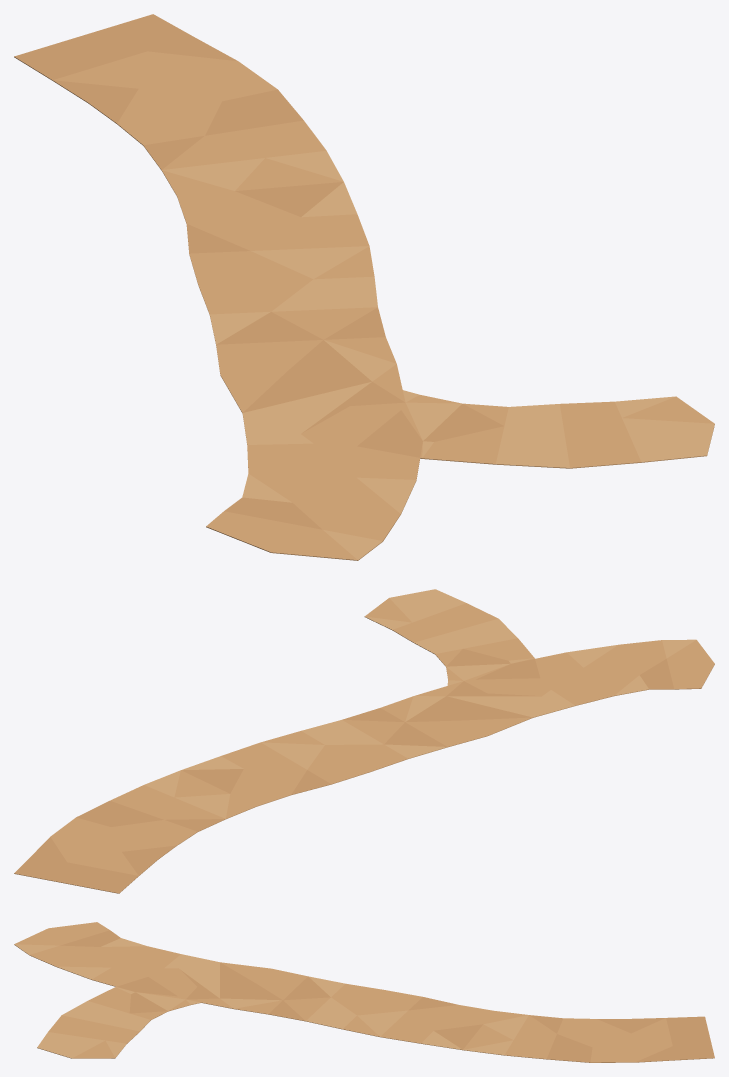
The model's file is FMS_Garden_Demo_Path.fbx.
3 renders of one model, top to bottom at view 1: azimuth 30°, elevation 25°; view 2: azimuth 150°, elevation 25°; view 3: azimuth 270°, elevation 25°, orthographic. The views are drawn at different scales.
Visible parts, largest first — view 1: Path; view 2: Path; view 3: Path.
Part boxes in pixels (box(x1,y1,x2,y2)): Path: box(14, 14, 714, 560); Path: box(14, 589, 714, 893); Path: box(14, 922, 714, 1062).
Bounding box in the file's own units: 6.07 × 0.008 × 12.81.
1 material, 1 textured.
